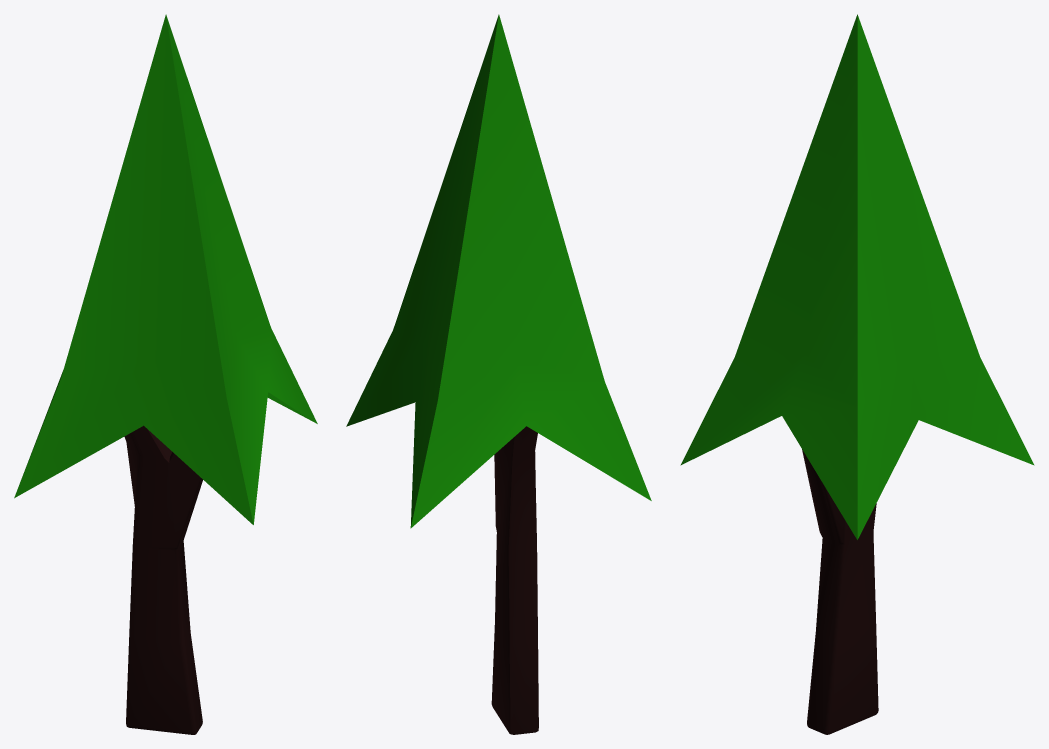
Rendered from tree5.FBX.
3 views of the same model, side by side, from view 1: azimuth 30°, elevation 25°; view 2: azimuth 150°, elevation 25°; view 3: azimuth 270°, elevation 25° (orthographic).
Visible parts, largest first — view 1: Tree5; view 2: Tree5; view 3: Tree5.
Boxes of the visible parts, bbox=[...] form: Tree5: bbox=[14, 14, 317, 734]; Tree5: bbox=[346, 14, 651, 734]; Tree5: bbox=[680, 14, 1034, 734].
Size of the model in its own units: 82.04 by 182 by 82.04.
